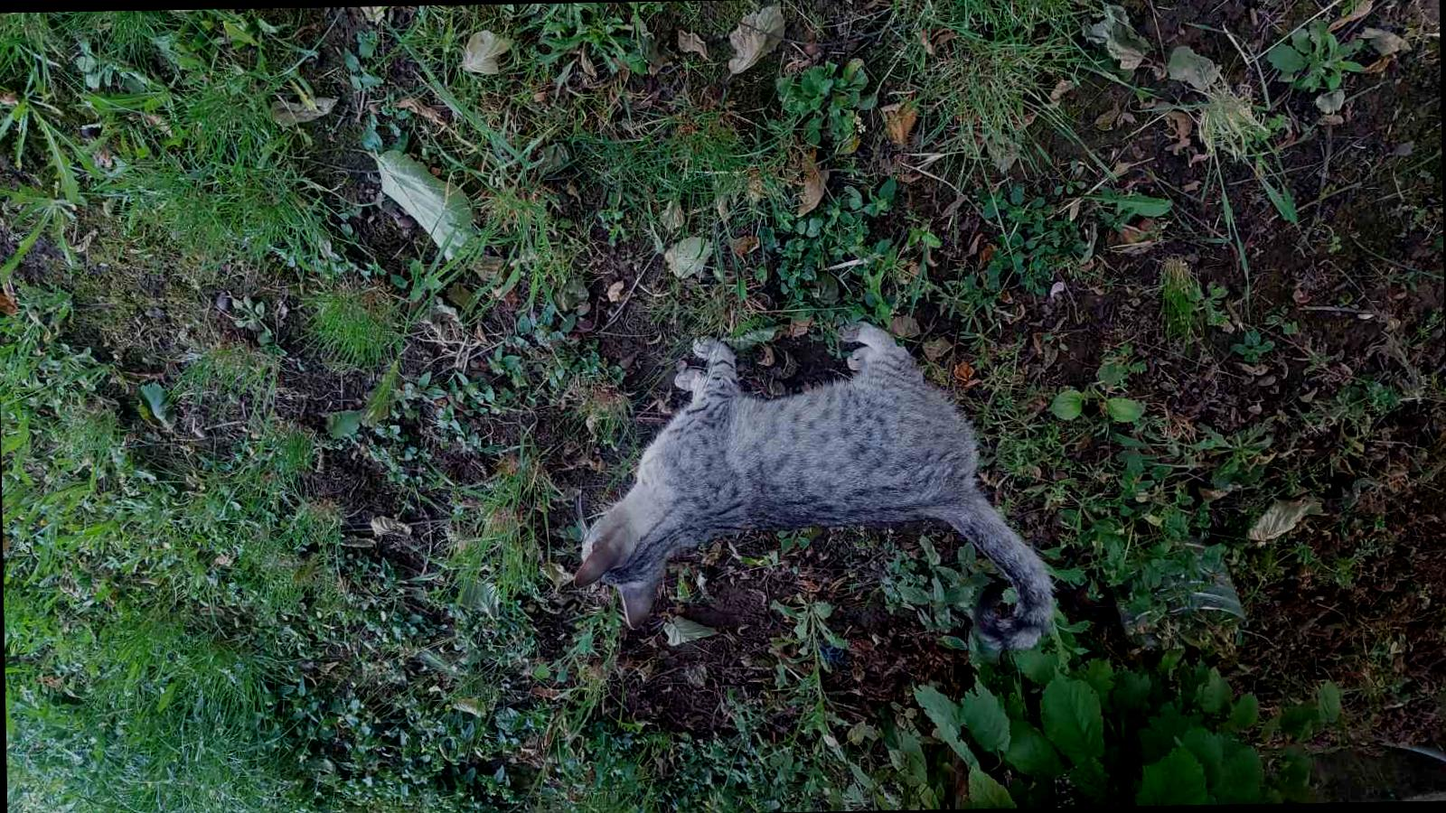macka: (569, 316, 1056, 659)
